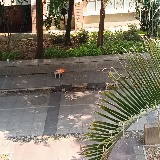fire: (58, 68, 66, 73)
